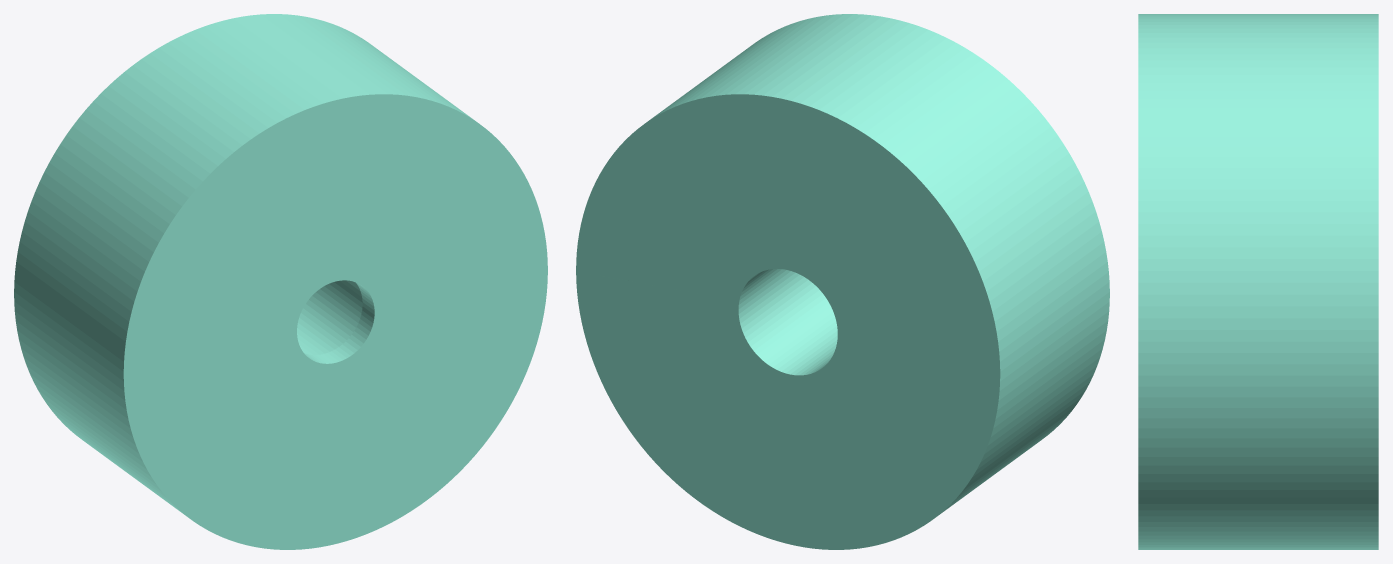
Rendered from Lar-HEC-SideC-cut4.glb.
3 renders of one model, left to right at view 1: azimuth 30°, elevation 25°; view 2: azimuth 150°, elevation 25°; view 3: azimuth 270°, elevation 25°, orthographic. The views are drawn at different scales.
Visible parts, largest first — view 1: null; view 2: null; view 3: null.
Part boxes in pixels (bbox=[...]): null: bbox=[14, 14, 547, 549]; null: bbox=[576, 14, 1109, 549]; null: bbox=[1138, 14, 1378, 549].
Size of the model in its own units: 4.06 by 4.06 by 1.82.
